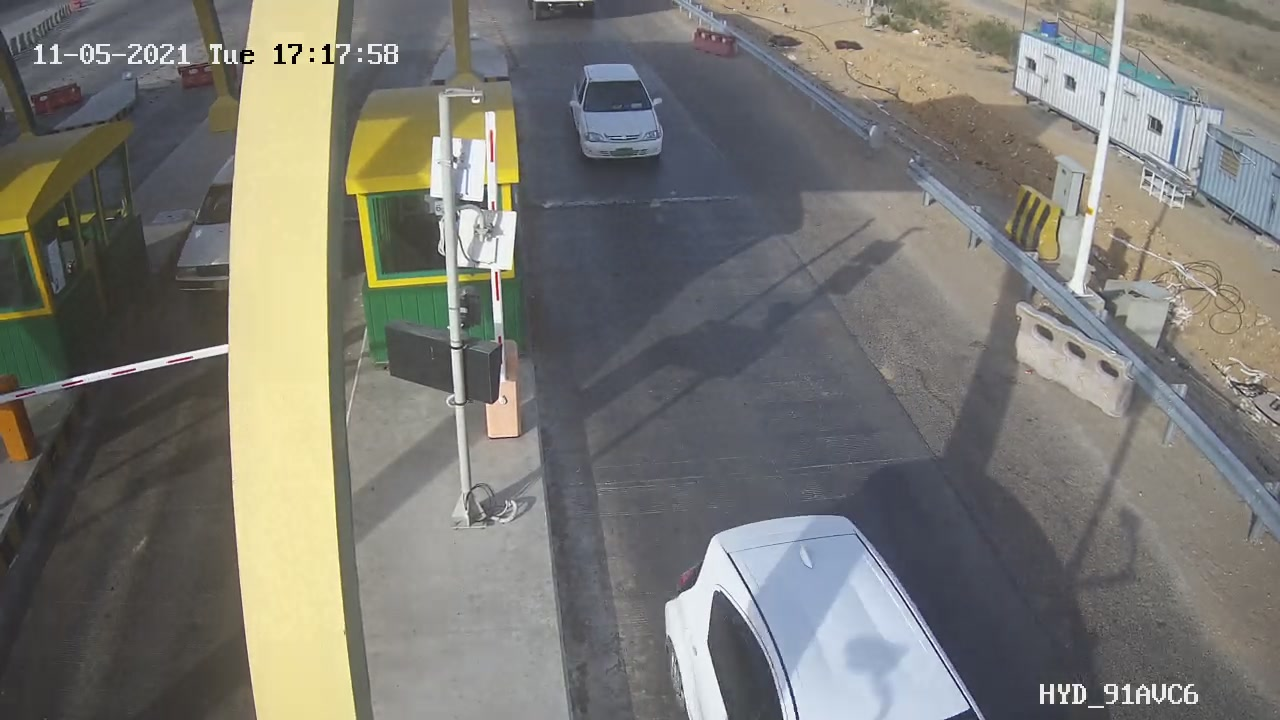F1: (548, 51, 683, 175)
